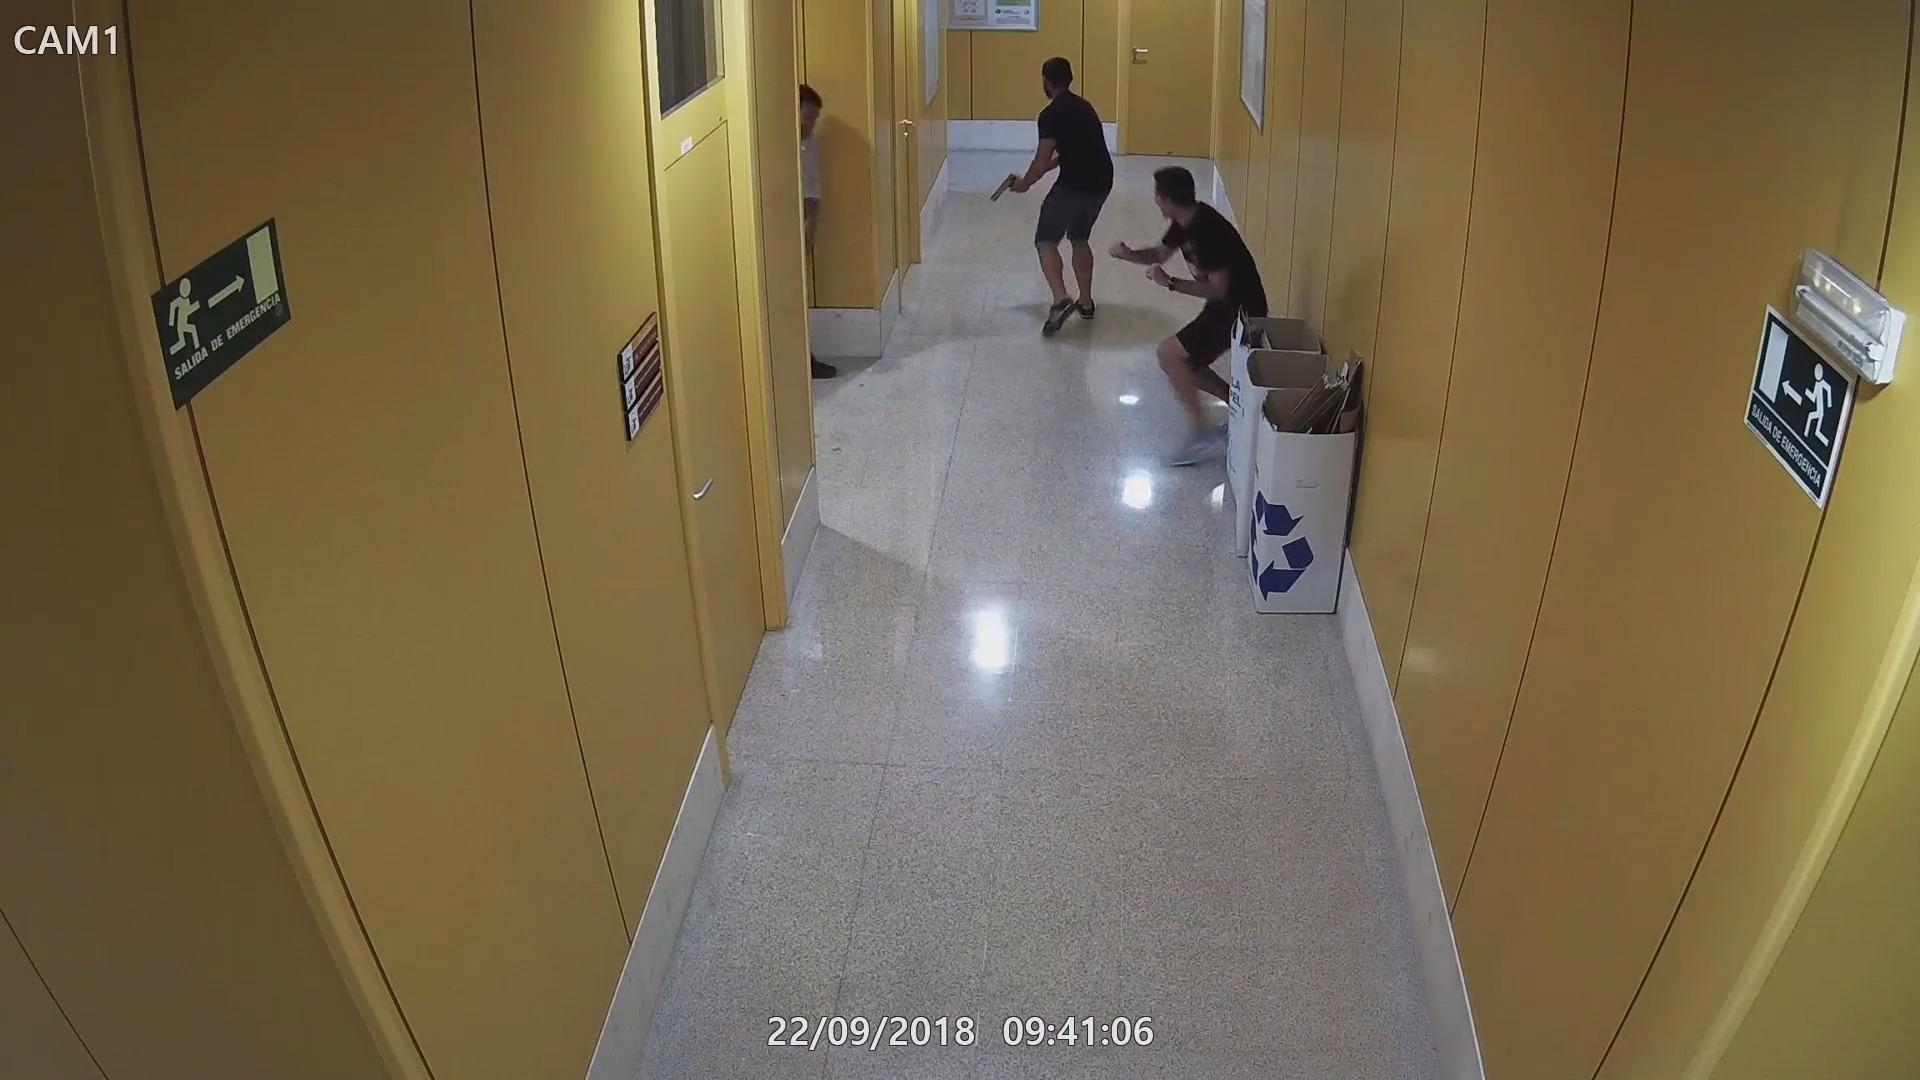Handgun: (989, 167, 1029, 206)
